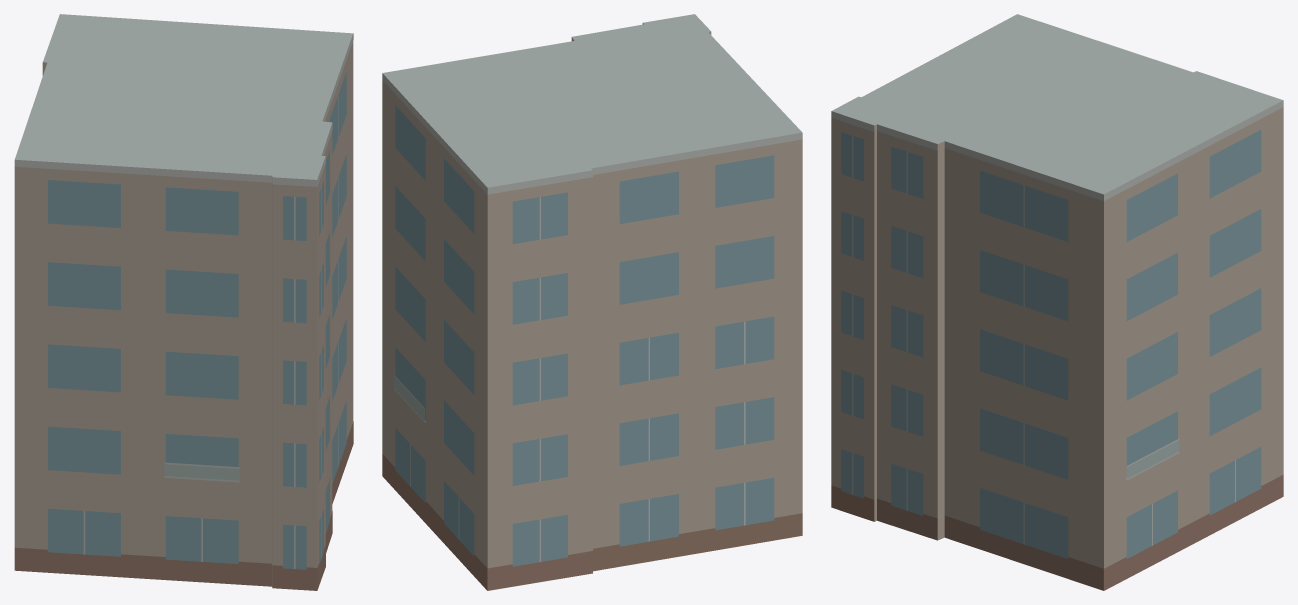
File: survey-upis-32984243.glb
3 renders of one model, left to right at view 1: azimuth 30°, elevation 25°; view 2: azimuth 150°, elevation 25°; view 3: azimuth 270°, elevation 25°, orthographic. The views are drawn at different scales.
Parts seen in each view (by area): view 1: survey-upis-32984243.tmp; view 2: survey-upis-32984243.tmp; view 3: survey-upis-32984243.tmp.
Boxes of the visible parts, bbox=[...] form: survey-upis-32984243.tmp: bbox=[14, 14, 353, 590]; survey-upis-32984243.tmp: bbox=[382, 14, 802, 590]; survey-upis-32984243.tmp: bbox=[831, 14, 1283, 590].
Bounding box in the file's own units: 14.03 × 14.35 × 14.84.
